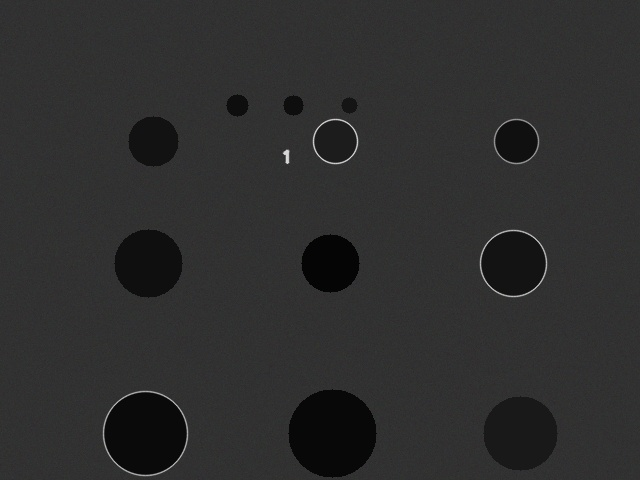hole: (288, 389, 376, 477), (103, 391, 187, 475), (483, 396, 557, 470), (114, 229, 182, 297), (480, 230, 546, 296), (301, 234, 359, 292), (128, 116, 178, 166), (313, 119, 357, 163), (494, 119, 538, 163), (226, 94, 248, 116), (283, 95, 303, 115), (341, 97, 357, 113)
